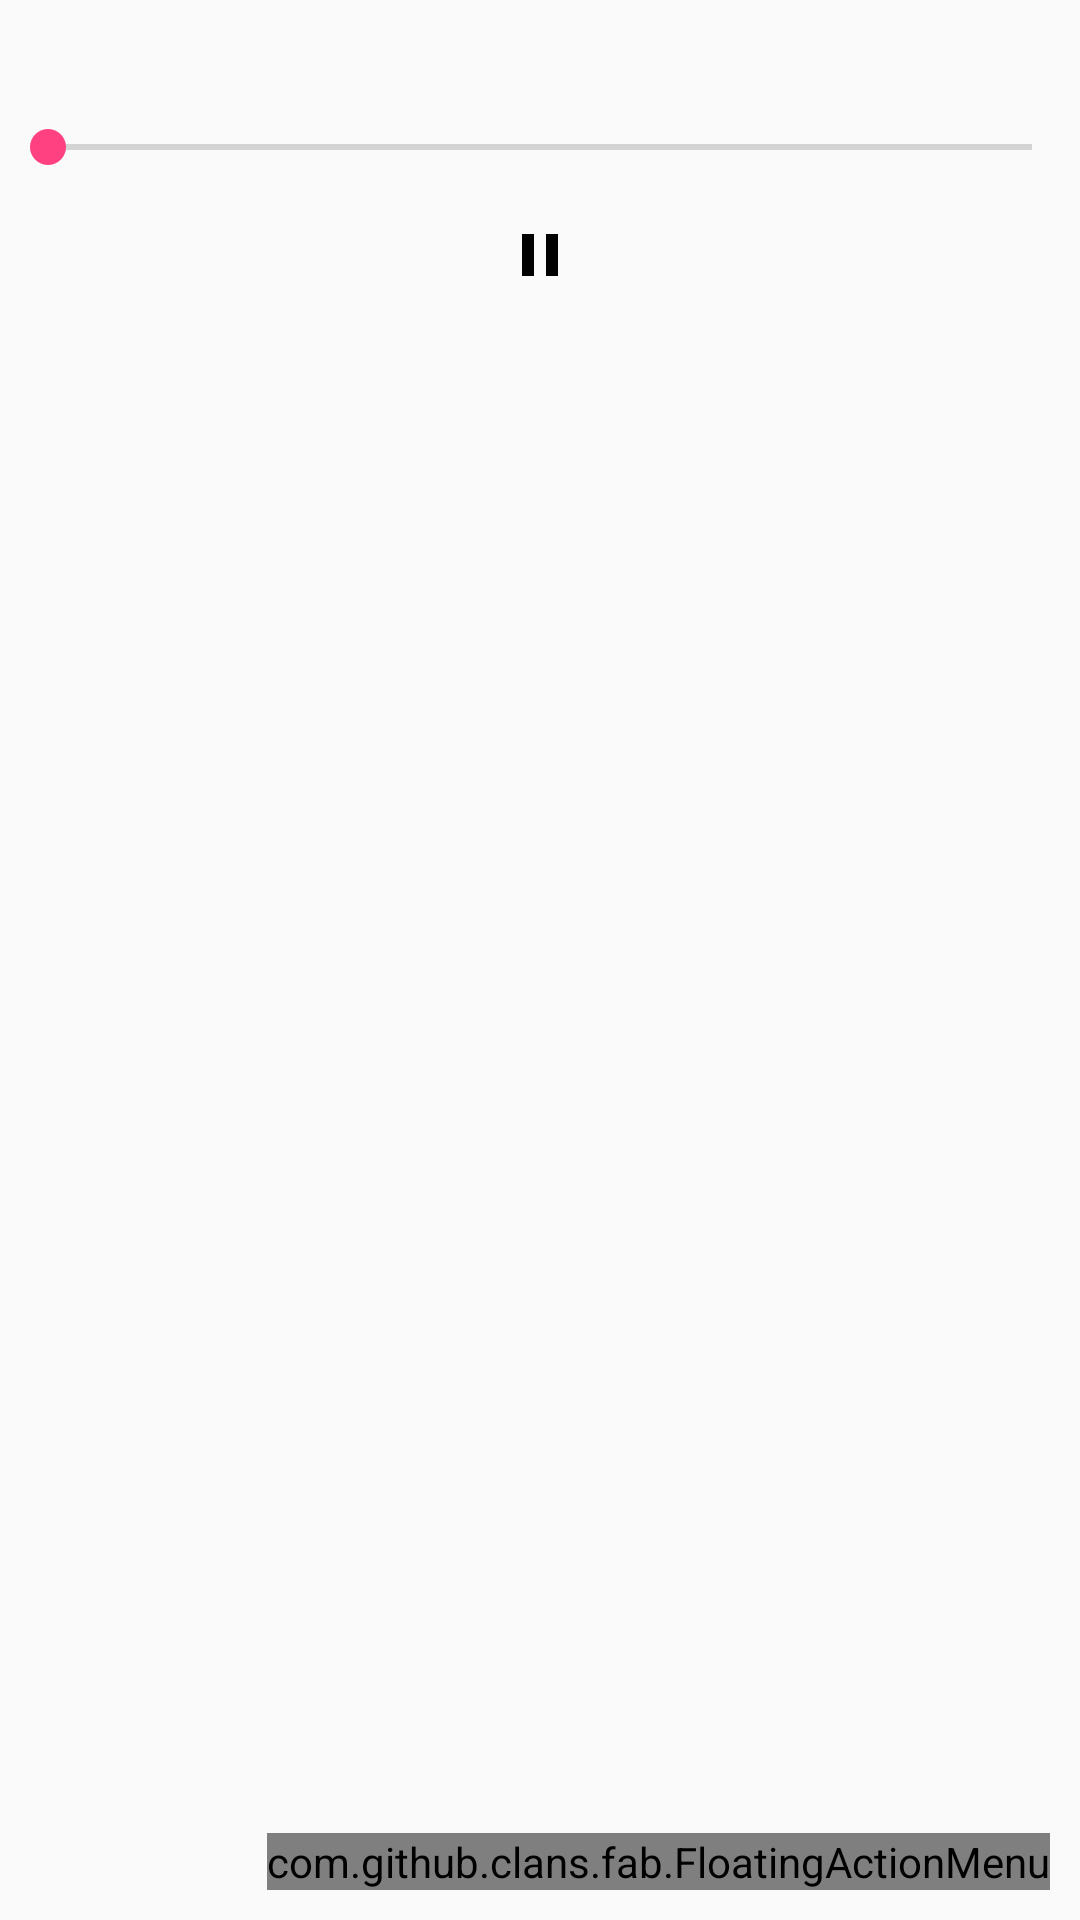

Icon click points for this 1080×1920 phone screenshot, format (x=x, y=y):
play to pause anim: (x=540, y=255)
